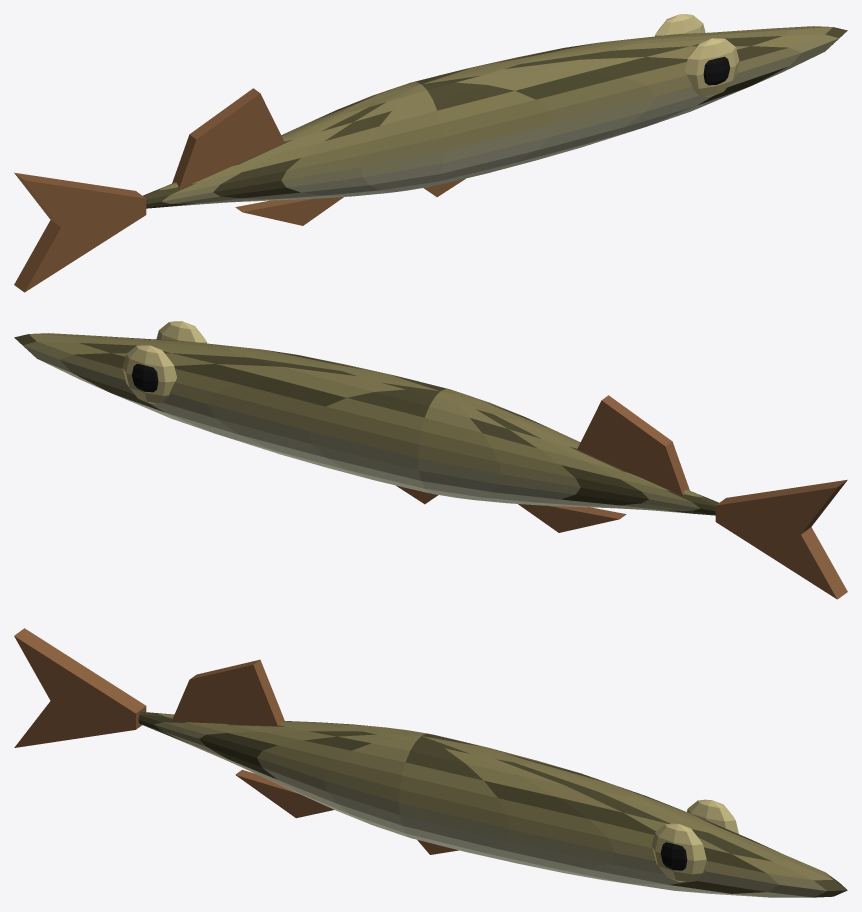
File: Muskellunge.glb
The picture shows the model from 3 angles, top to bottom: view 1: azimuth 30°, elevation 25°; view 2: azimuth 150°, elevation 25°; view 3: azimuth 330°, elevation 25°; orthographic projection.
Visible parts, largest first — view 1: Muskellunge; view 2: Muskellunge; view 3: Muskellunge.
Part boxes in pixels (bbox=[...]): Muskellunge: bbox=[14, 14, 847, 292]; Muskellunge: bbox=[14, 321, 847, 599]; Muskellunge: bbox=[14, 628, 847, 897].
Bounding box in the file's own units: 10.77 × 1.83 × 1.07.
